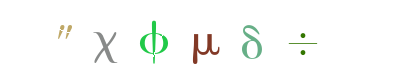0: (73, 0, 153, 80)
4: (191, 0, 271, 80)
D: (173, 0, 253, 80)
F: (134, 0, 214, 80)
M: (160, 0, 240, 80)
X: (131, 0, 211, 80)
